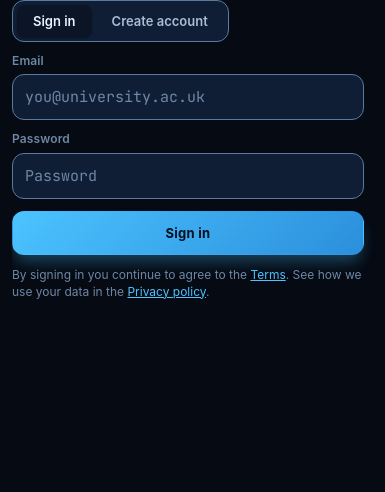
Test: auth form password policy › blocks account creation with a weak password
Click the button "Create account": click(160, 21) 96,5 -> 224,37
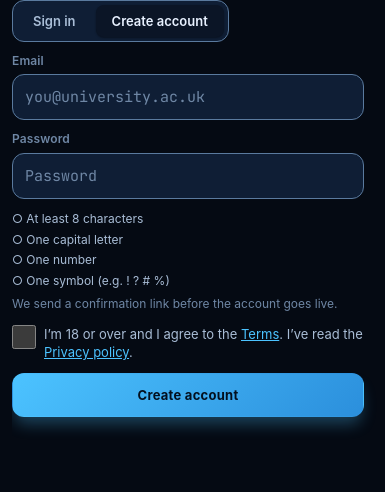
In the field labelled "Email": (188, 97) 12,74 -> 364,120, type "a@b.ac.uk"
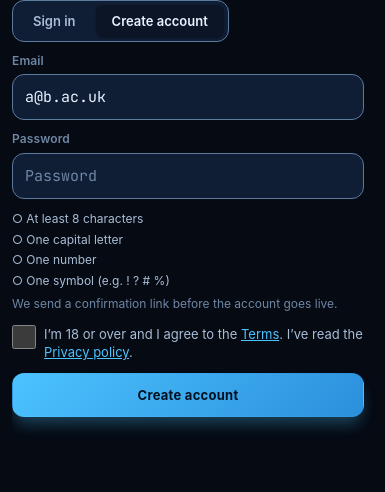
In the password field labelled "Password": (188, 176) 12,153 -> 364,199, type "weakpass1"
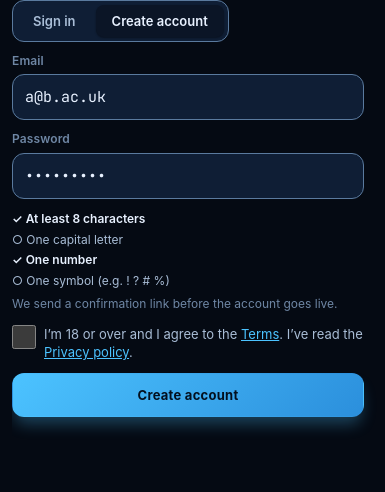
Click the checkbox named "I.m 18 or over": click(24, 337) 12,325 -> 36,349
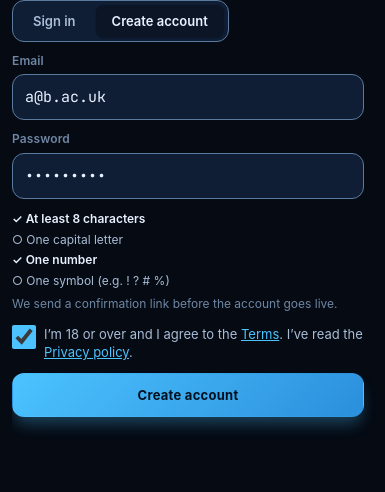
Submit the form named "Create account"
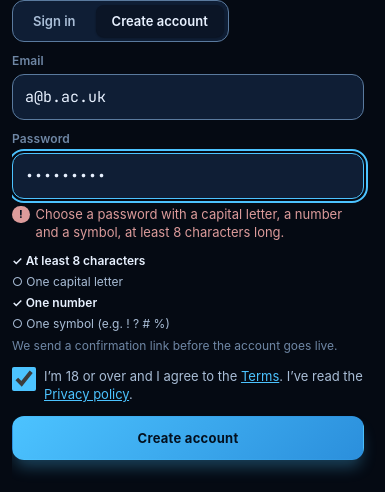
Expected: the message shows "capital letter", 36,206 -> 342,240
